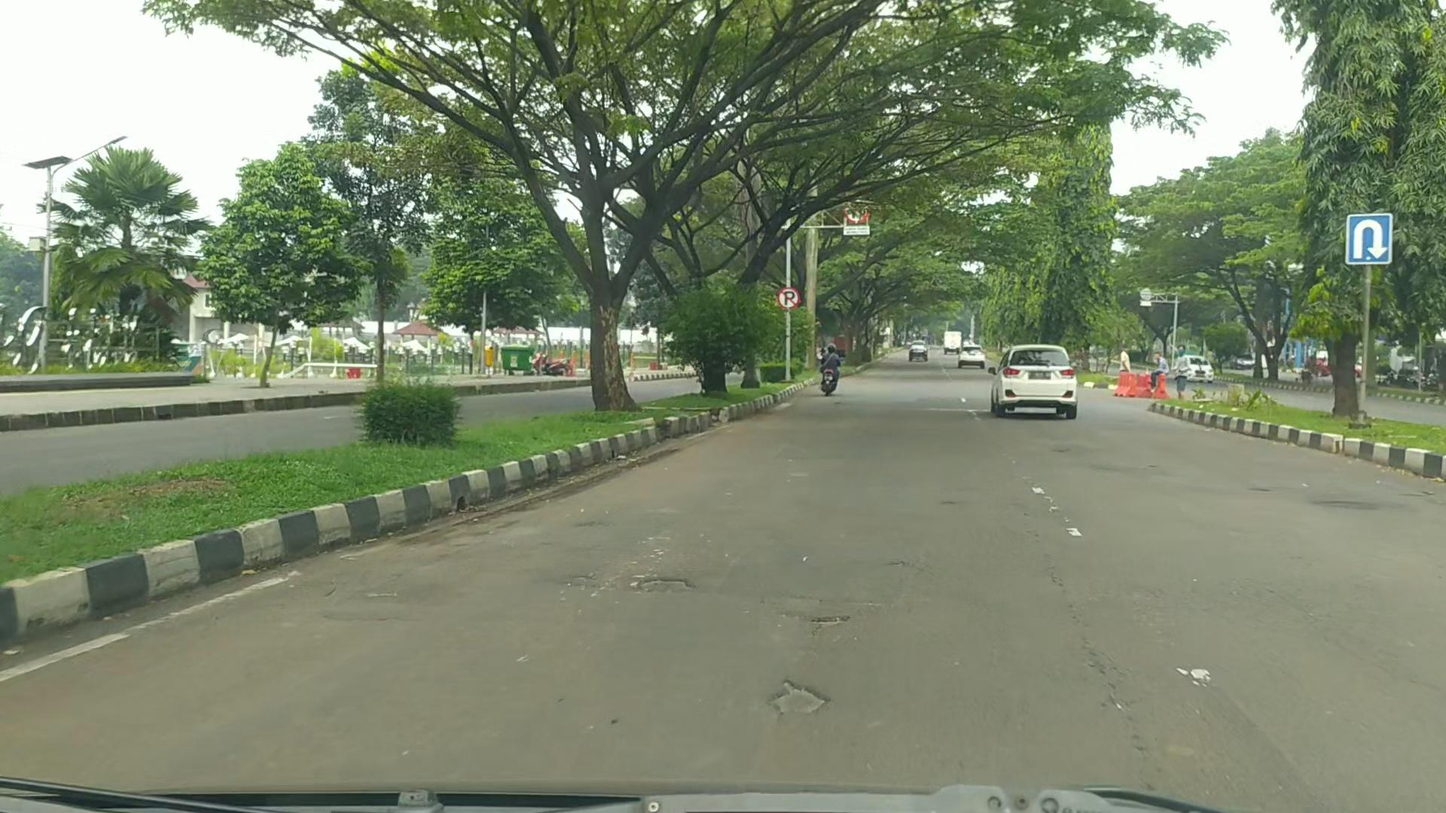pothole: (769, 678, 833, 714), (809, 615, 850, 636), (637, 577, 694, 591), (1314, 501, 1373, 507)
